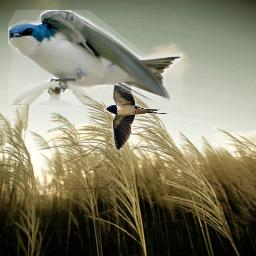Swallow: (8, 10, 183, 105), (104, 61, 171, 152)
